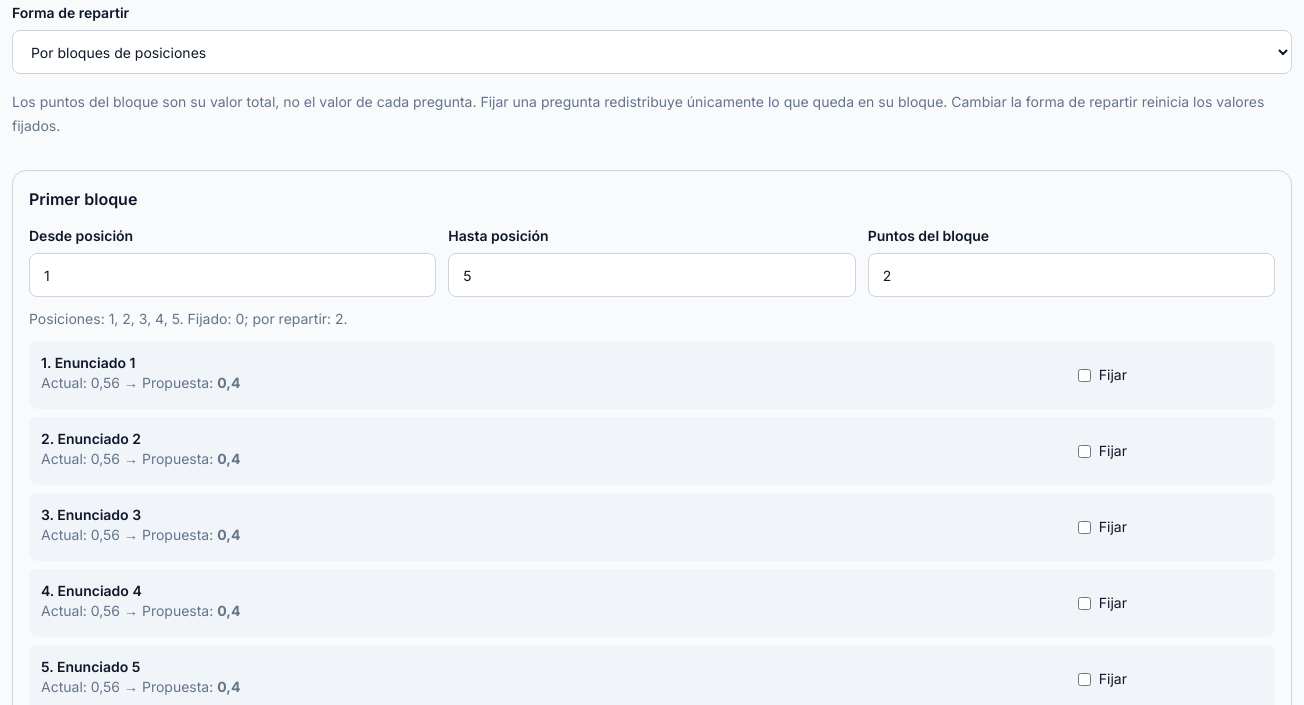
Test: 137 muestra bloques colectivos y redistribuye solo el bloque al fijar una pregunta
Check: the text with test id "proposal-p1" reads "0,4", box x1=217 y1=374 x2=240 y2=391
Click the checkbox named "Fijar posición 1" at coordinates (1084, 375), box x1=1078 y1=368 x2=1091 y2=382
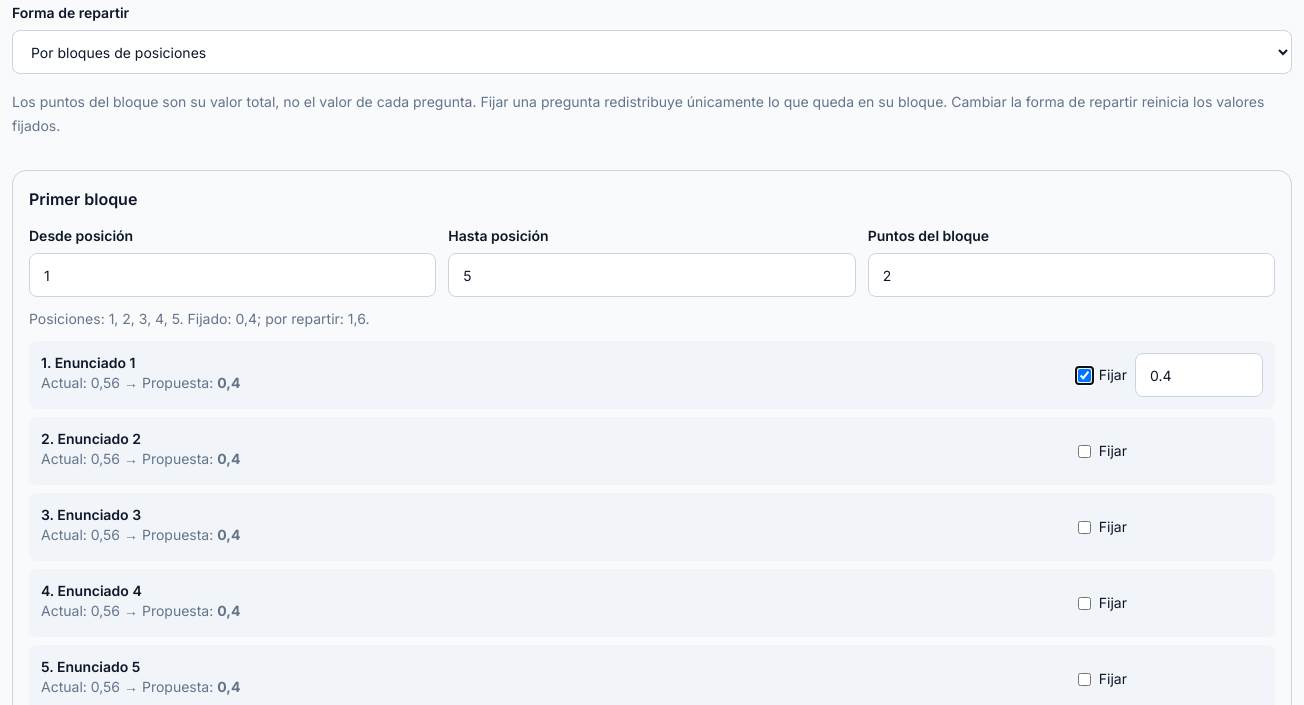
Replace the text in the field named "Valor fijado posición 1" with "0,9" at coordinates (1199, 375), box x1=1135 y1=353 x2=1263 y2=397
(page scrolled)
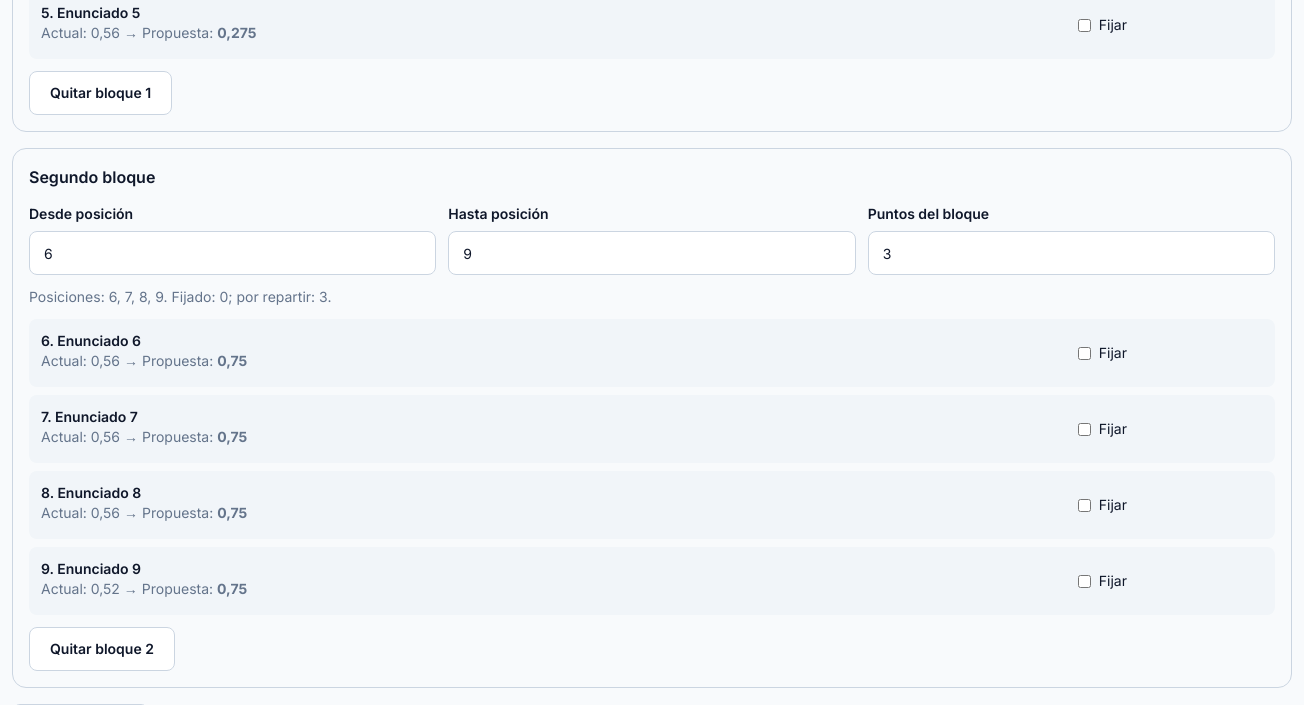
Check: the text with test id "proposal-p6" reads "0,75", box x1=217 y1=352 x2=247 y2=369
